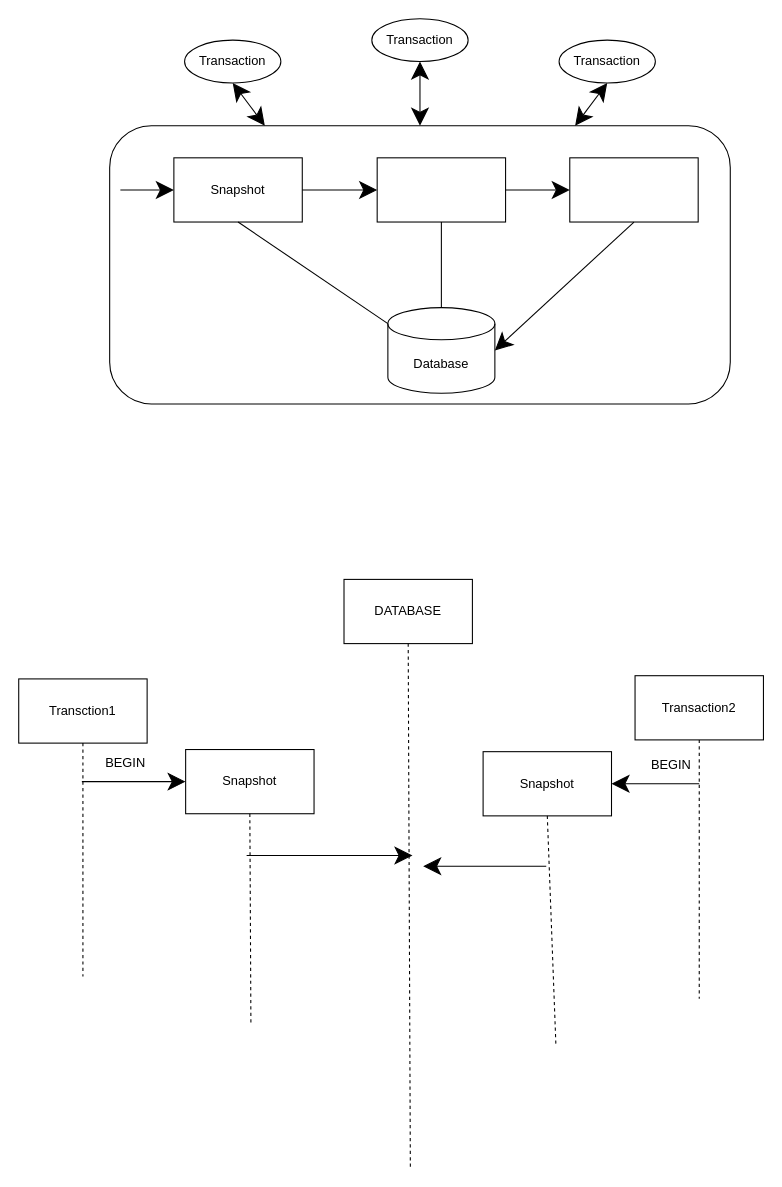
Image size: 782x1187. Some labels were removed from this diagram. The centre of each missing label's shape, as x and y in pixels:
Committer: the point at 633,189
Validator: the point at 441,189
